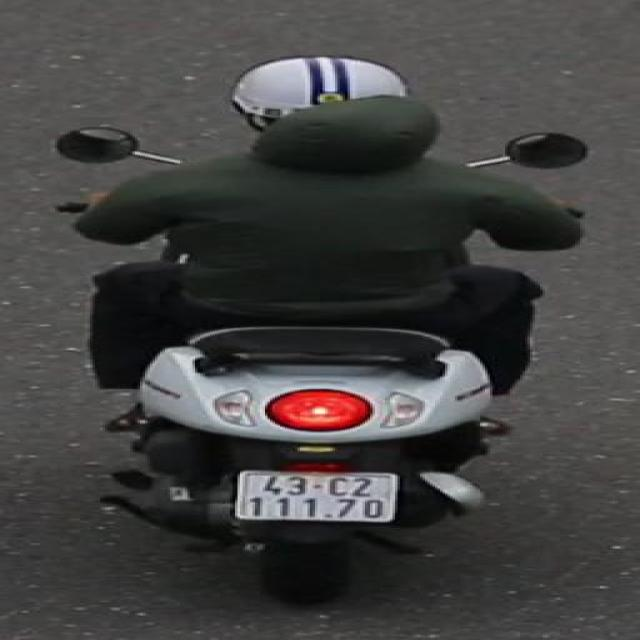LP: (230, 464, 408, 529)
helmet: (224, 50, 424, 154)
